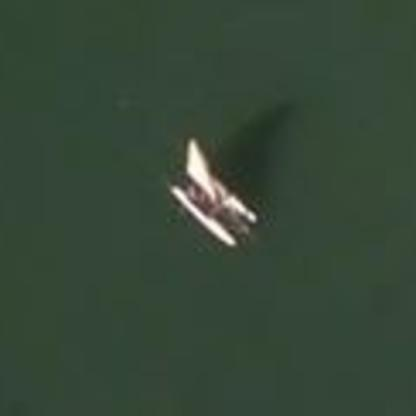ship: (164, 126, 264, 252)
